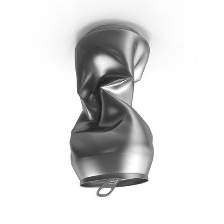can: (64, 20, 160, 199)
